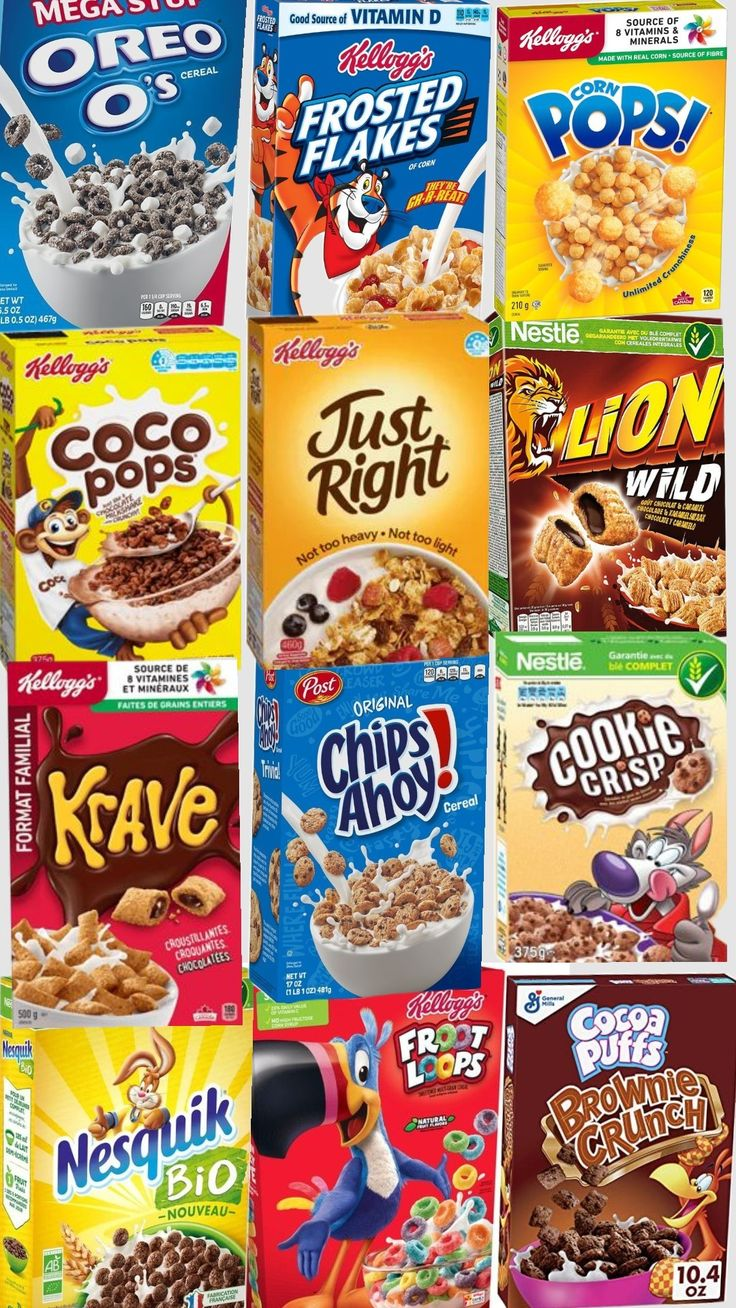Brownie Crunch: (506, 979, 717, 1247)
Chips Ahoy: (263, 675, 483, 952)
Coco Pops: (7, 346, 238, 630)
Cookie Crisp: (509, 676, 710, 916)
Corn Pops: (514, 30, 711, 275)
Frosted Flakes: (267, 26, 493, 298)
Just Right: (261, 319, 482, 647)
Krave: (25, 727, 233, 960)
Nesquik Bio: (15, 1035, 249, 1264)
